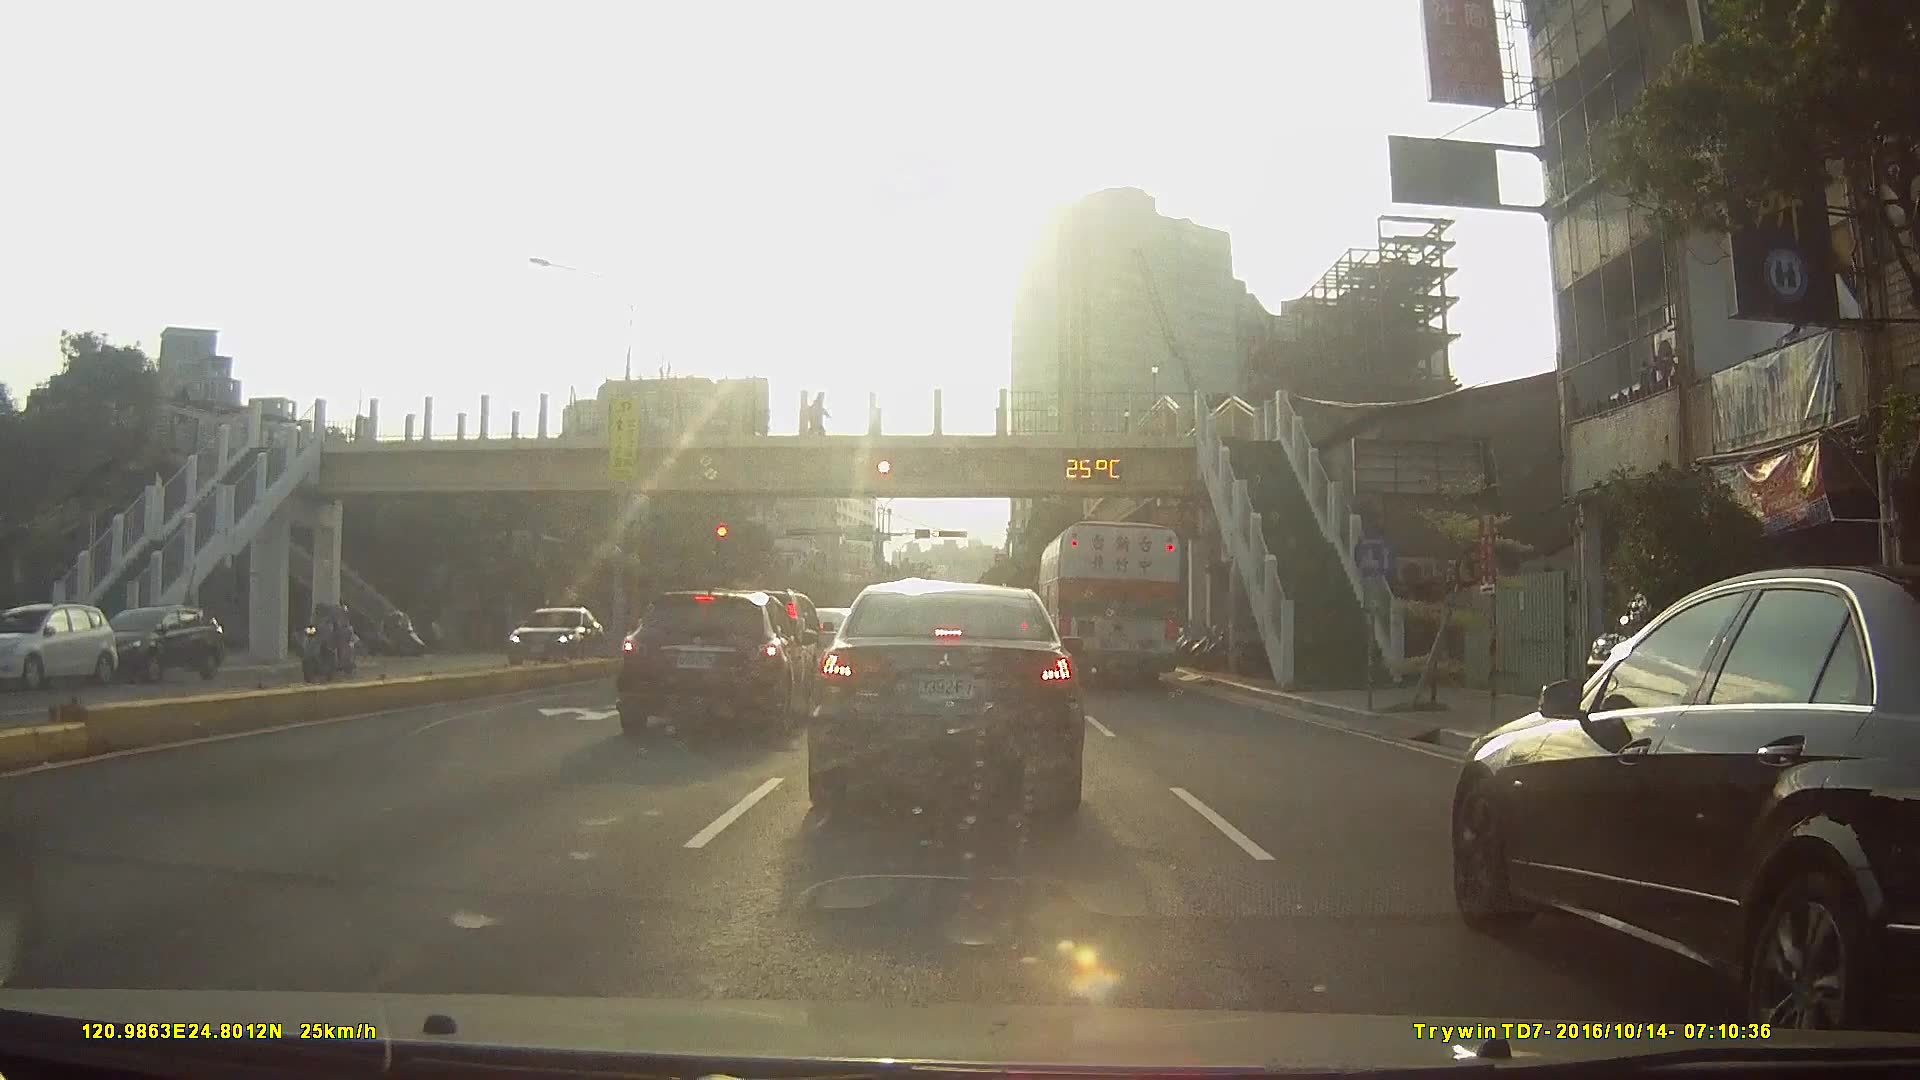pedestrian: (808, 393, 830, 441)
rider: (298, 597, 347, 685)
vehicle: (1442, 563, 1920, 1047), (804, 578, 1085, 814), (610, 585, 817, 737), (1037, 518, 1184, 689), (87, 601, 221, 680), (0, 600, 117, 689), (499, 606, 600, 664)
